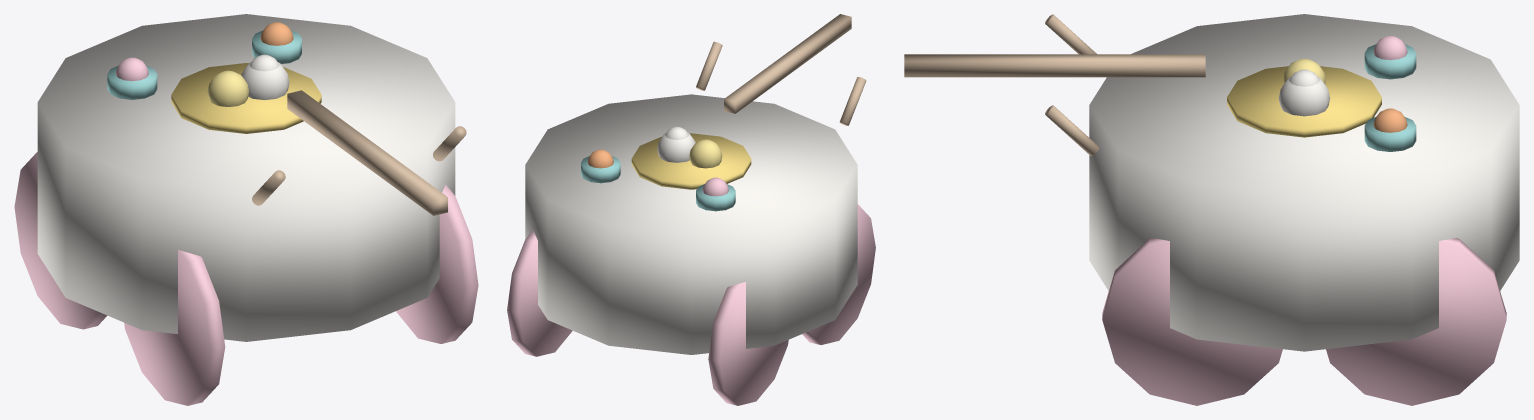
Rendered from thai_dessert_cart.glb.
3 views of the same model, side by side, from view 1: azimuth 30°, elevation 25°; view 2: azimuth 150°, elevation 25°; view 3: azimuth 270°, elevation 25° (orthographic). The views are drawn at different scales.
Visible parts, largest first — view 1: cart_body, wh_1, wh_2, dessert_plate, handlebar, wh_3, dessert_rice, dessert_mango, bowl_l, bowl_r, topping_l, topping_r (+2 smaller); view 2: cart_body, wh_3, wh_4, dessert_plate, handlebar, wh_1, dessert_rice, dessert_mango, bowl_l, bowl_r, mount_l, mount_r (+2 smaller); view 3: cart_body, wh_2, wh_4, handlebar, dessert_plate, dessert_rice, bowl_l, bowl_r, mount_r, mount_l, topping_r, topping_l.
Part boxes in pixels (left/top/right/bottom): cart_body: left=37, top=14, right=455, bottom=341; wh_1: left=124, top=250, right=225, bottom=405; wh_2: left=396, top=185, right=478, bottom=343; dessert_plate: left=171, top=63, right=321, bottom=133; handlebar: left=287, top=90, right=447, bottom=215; wh_3: left=14, top=152, right=107, bottom=329; dessert_rice: left=241, top=62, right=289, bottom=99; dessert_mango: left=207, top=70, right=249, bottom=106; bowl_l: left=107, top=65, right=157, bottom=99; bowl_r: left=252, top=30, right=301, bottom=63; topping_l: left=115, top=57, right=148, bottom=81; topping_r: left=260, top=22, right=293, bottom=45; cart_body: left=525, top=94, right=857, bottom=354; wh_3: left=708, top=282, right=788, bottom=405; wh_4: left=507, top=230, right=572, bottom=356; dessert_plate: left=631, top=133, right=751, bottom=189; handlebar: left=724, top=14, right=851, bottom=113; wh_1: left=802, top=204, right=875, bottom=344; dessert_rice: left=657, top=132, right=695, bottom=162; dessert_mango: left=689, top=139, right=722, bottom=168; bowl_l: left=696, top=184, right=735, bottom=211; bowl_r: left=581, top=156, right=620, bottom=183; mount_l: left=839, top=77, right=866, bottom=125; mount_r: left=696, top=41, right=722, bottom=90; cart_body: left=1089, top=14, right=1519, bottom=351; wh_2: left=1102, top=238, right=1282, bottom=405; wh_4: left=1326, top=238, right=1506, bottom=405; handlebar: left=904, top=54, right=1205, bottom=77; dessert_plate: left=1227, top=66, right=1381, bottom=137; dessert_rice: left=1278, top=77, right=1330, bottom=116; bowl_l: left=1364, top=44, right=1416, bottom=79; bowl_r: left=1364, top=117, right=1416, bottom=151; mount_r: left=1045, top=105, right=1099, bottom=156; mount_l: left=1045, top=14, right=1096, bottom=54; topping_r: left=1373, top=108, right=1407, bottom=132; topping_l: left=1373, top=35, right=1407, bottom=60.
Size of the model in its own units: 1 by 0.72 by 1.43.
